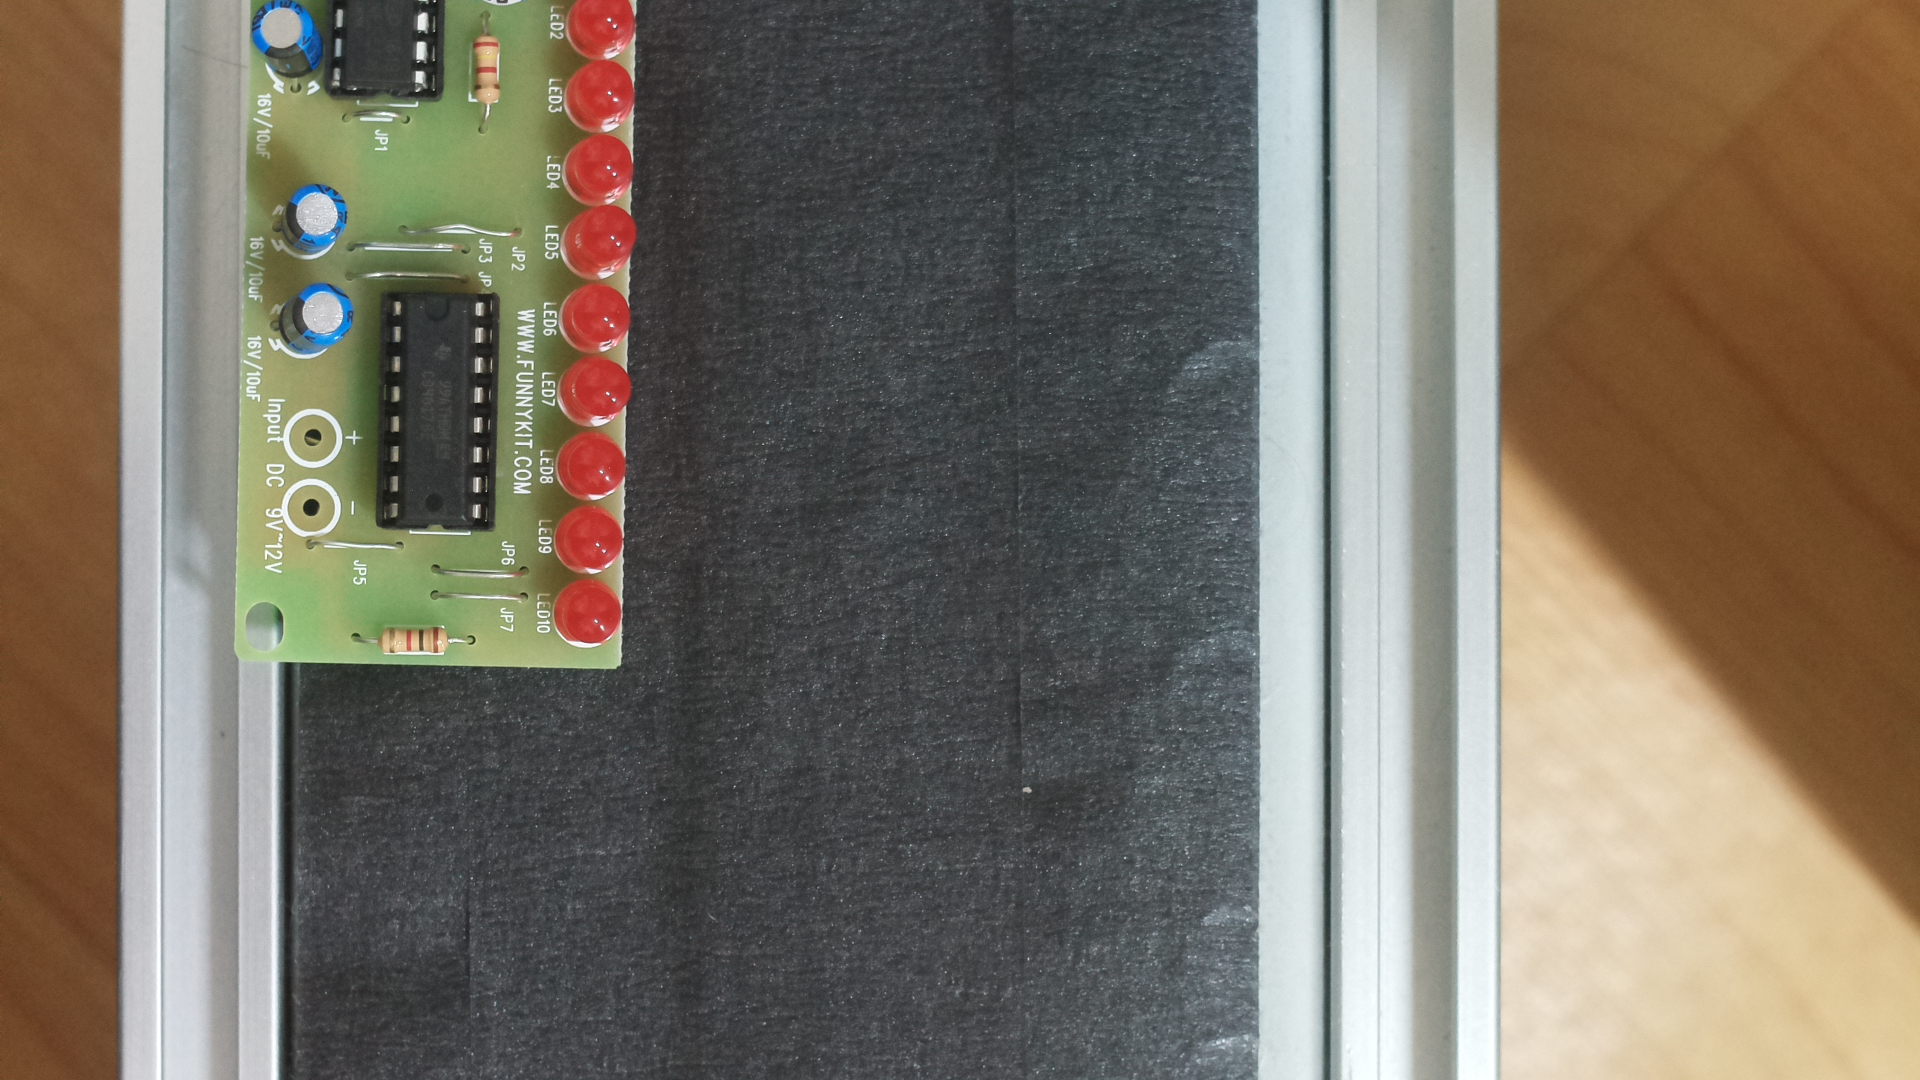B_Normal: (232, 3, 654, 692)
